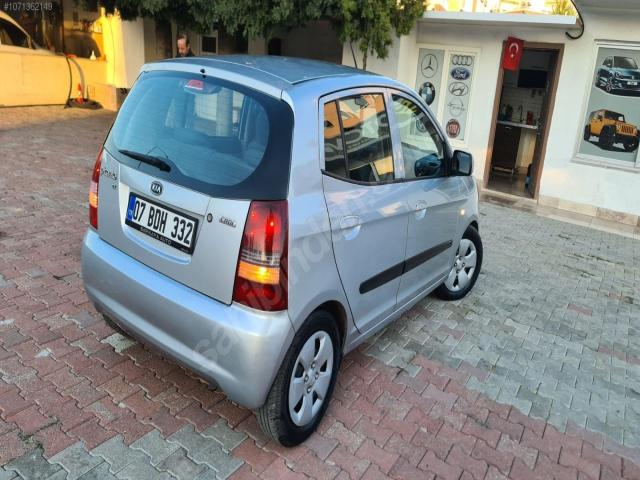plaka: (126, 193, 197, 253)
